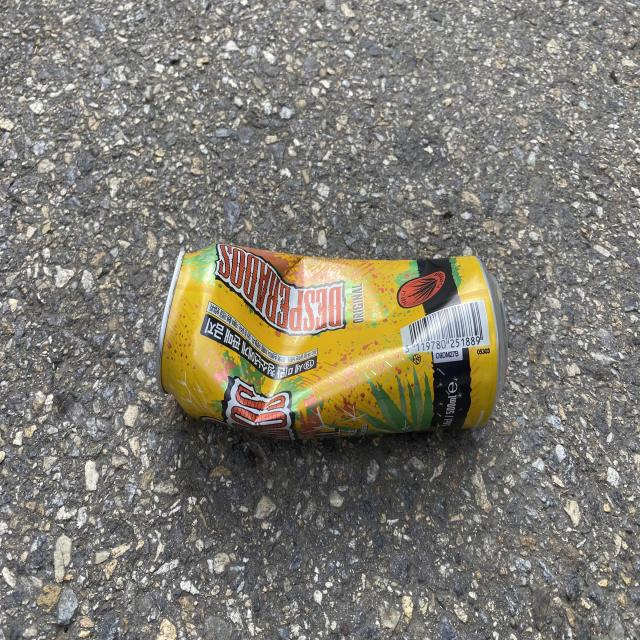can: (156, 243, 509, 440)
